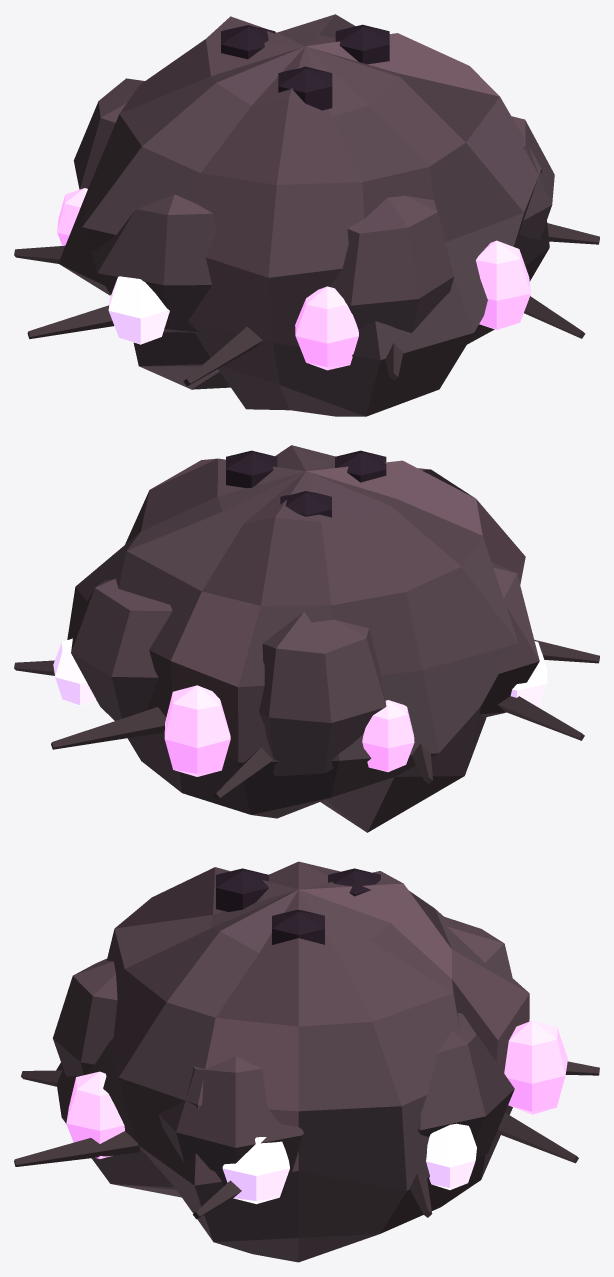
Rendered from Nest - Hive-DvixDnko.glb.
3 renders of one model, top to bottom at view 1: azimuth 30°, elevation 25°; view 2: azimuth 150°, elevation 25°; view 3: azimuth 270°, elevation 25°, orthographic. The views are drawn at different scales.
Visible parts, largest first — view 1: mound, pods; view 2: mound, pods; view 3: mound, pods.
Part boxes in pixels (bbox=[...]): mound: bbox=[14, 14, 599, 416]; pods: bbox=[57, 188, 530, 370]; mound: bbox=[14, 445, 599, 832]; pods: bbox=[53, 638, 547, 776]; mound: bbox=[14, 861, 599, 1262]; pods: bbox=[66, 1020, 567, 1204].
Size of the model in its own units: 2.03 by 1.27 by 1.99.
